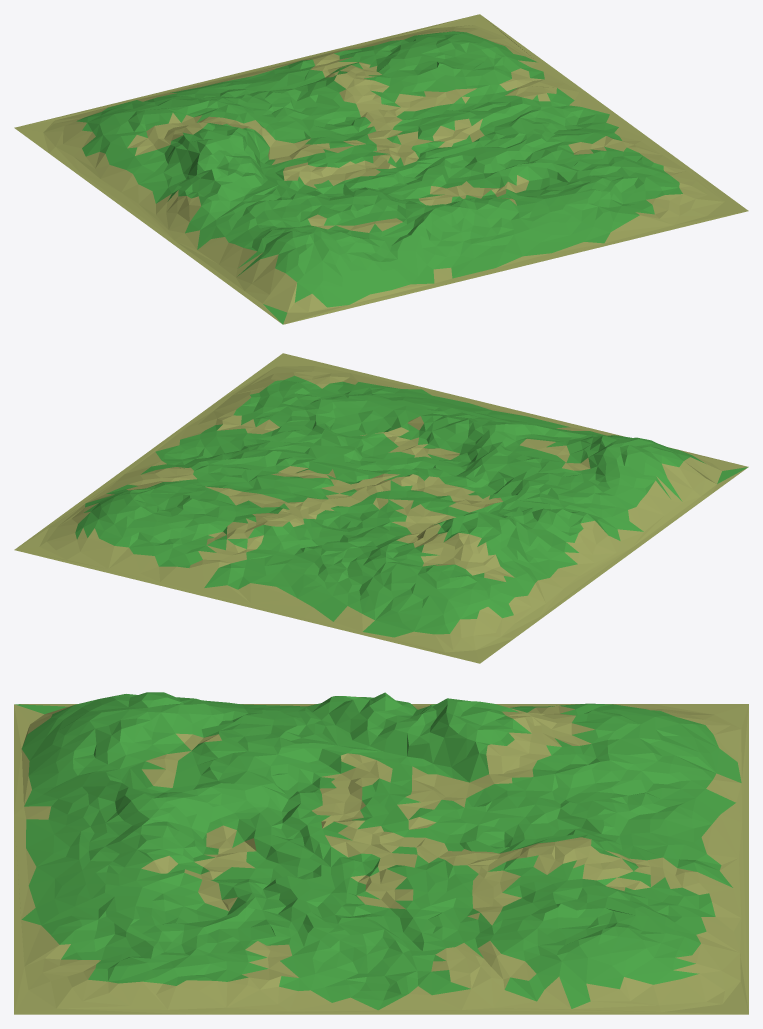
The model's file is game_terrain_3.glb.
3 renders of one model, top to bottom at view 1: azimuth 30°, elevation 25°; view 2: azimuth 150°, elevation 25°; view 3: azimuth 270°, elevation 25°, orthographic. The views are drawn at different scales.
Visible parts, largest first — view 1: Landscape.003; view 2: Landscape.003; view 3: Landscape.003.
Part boxes in pixels (left/top/right/bottom): Landscape.003: left=14, top=14, right=748, bottom=324; Landscape.003: left=14, top=353, right=748, bottom=663; Landscape.003: left=14, top=692, right=748, bottom=1014.
Size of the model in its own units: 2 by 0.1872 by 2.
